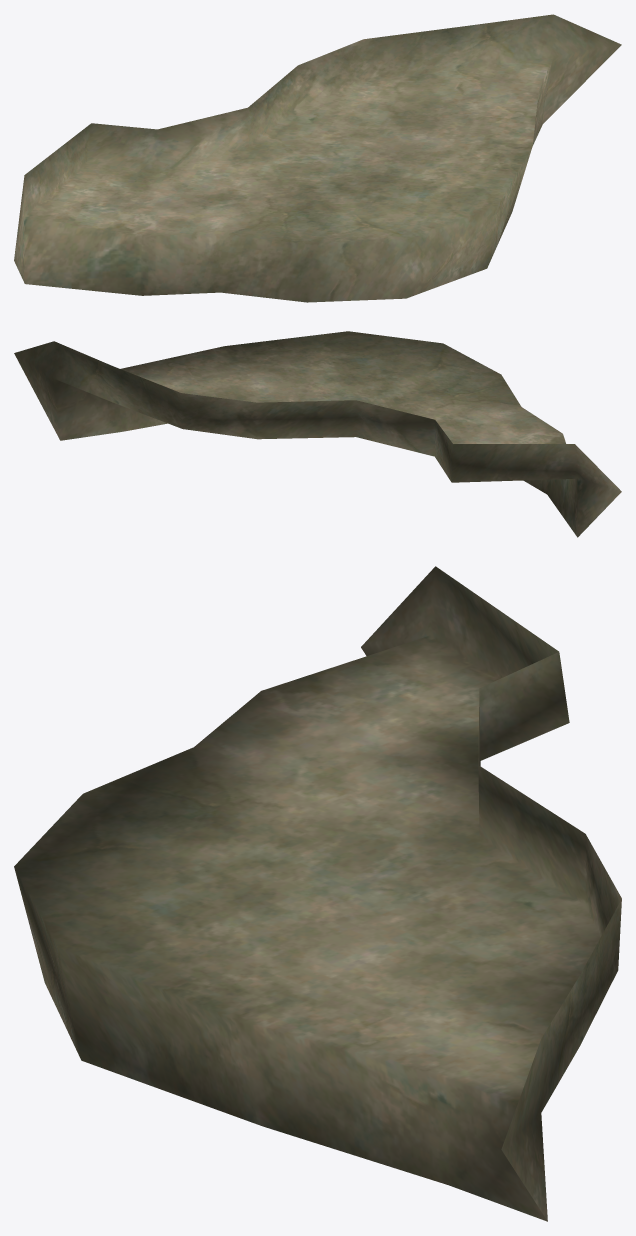
Rendered from EKH_CAVERNS_PS_CA_PLATFORM4499238.fbx.
3 views of the same model, one above another, from view 1: azimuth 30°, elevation 25°; view 2: azimuth 150°, elevation 25°; view 3: azimuth 270°, elevation 25° (orthographic). The views are drawn at different scales.
Visible parts, largest first — view 1: EKH_CAVERNS_PS_CA_PLATFORM4499238; view 2: EKH_CAVERNS_PS_CA_PLATFORM4499238; view 3: EKH_CAVERNS_PS_CA_PLATFORM4499238.
Boxes of the visible parts, <box> form: EKH_CAVERNS_PS_CA_PLATFORM4499238: <box>14,14,621,302</box>; EKH_CAVERNS_PS_CA_PLATFORM4499238: <box>14,331,621,537</box>; EKH_CAVERNS_PS_CA_PLATFORM4499238: <box>14,566,621,1221</box>.
Size of the model in its own units: 77845 by 12543 by 36255.
Materials: 1 (1 with a texture image).
